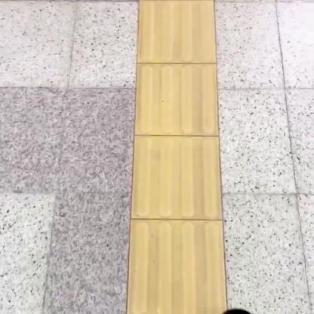Podoctatil: (125, 0, 228, 313)
